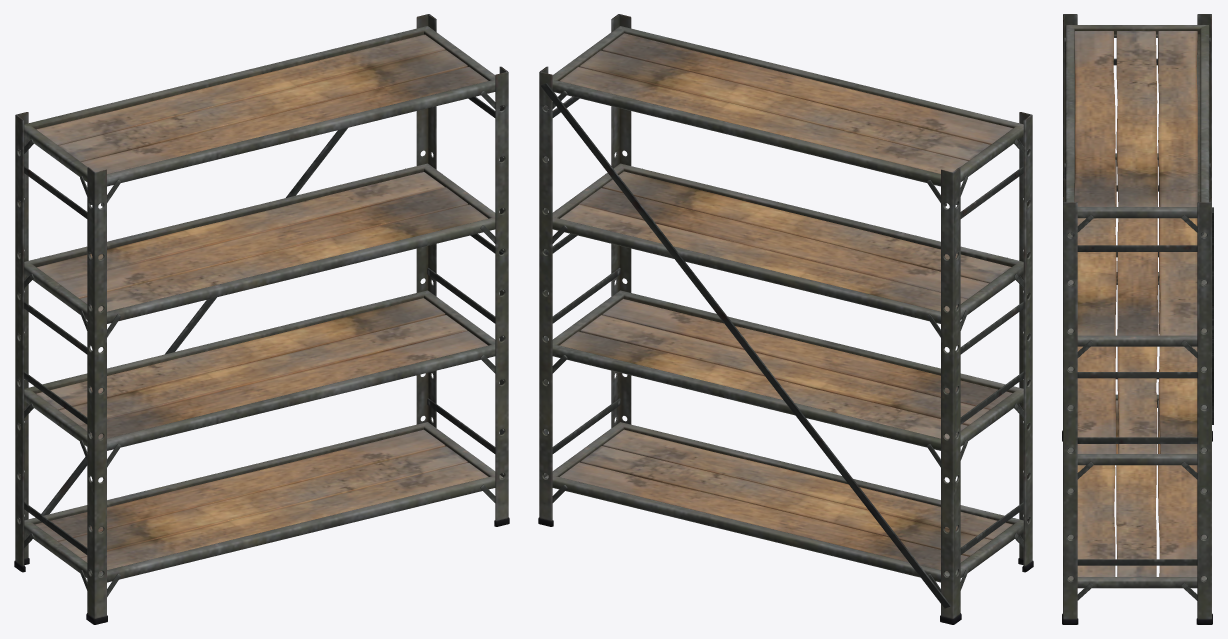
File: rack_wide.d97d1cb6d9.glb
3 renders of one model, left to right at view 1: azimuth 30°, elevation 25°; view 2: azimuth 150°, elevation 25°; view 3: azimuth 270°, elevation 25°, orthographic. The views are drawn at different scales.
Visible parts, largest first — view 1: rack_wide; view 2: rack_wide; view 3: rack_wide.
Part boxes in pixels (x1=…): rack_wide: x1=14, y1=14, x2=509, y2=624; rack_wide: x1=538, y1=14, x2=1033, y2=624; rack_wide: x1=1062, y1=14, x2=1213, y2=624.
Bounding box in the file's own units: 1.81 × 1.88 × 0.6129.
Materials: 1 (1 with a texture image).
